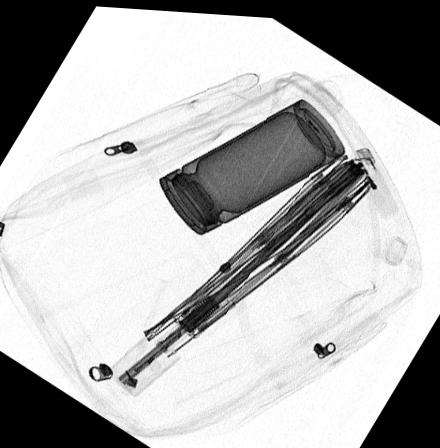Lighter: (347, 141, 397, 213)
